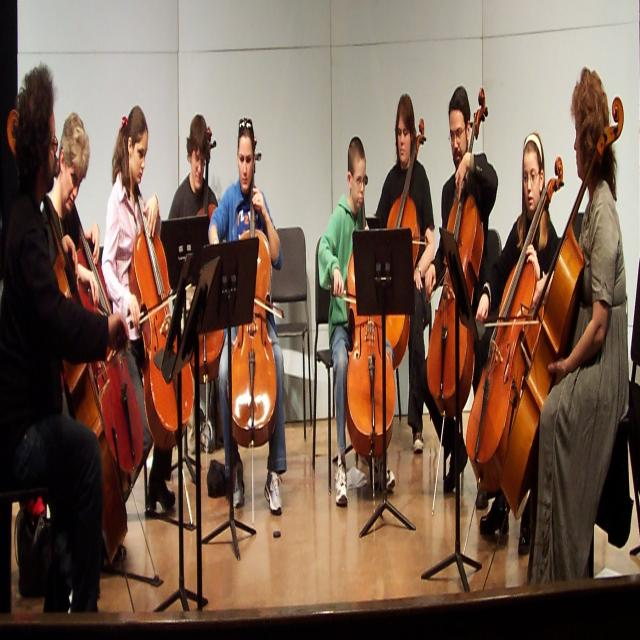cello: (7, 108, 128, 558), (498, 97, 624, 522), (466, 156, 563, 494), (426, 90, 488, 420), (73, 204, 145, 486), (129, 175, 194, 446), (228, 140, 279, 448), (347, 172, 395, 459), (188, 126, 226, 384), (386, 120, 426, 364)
